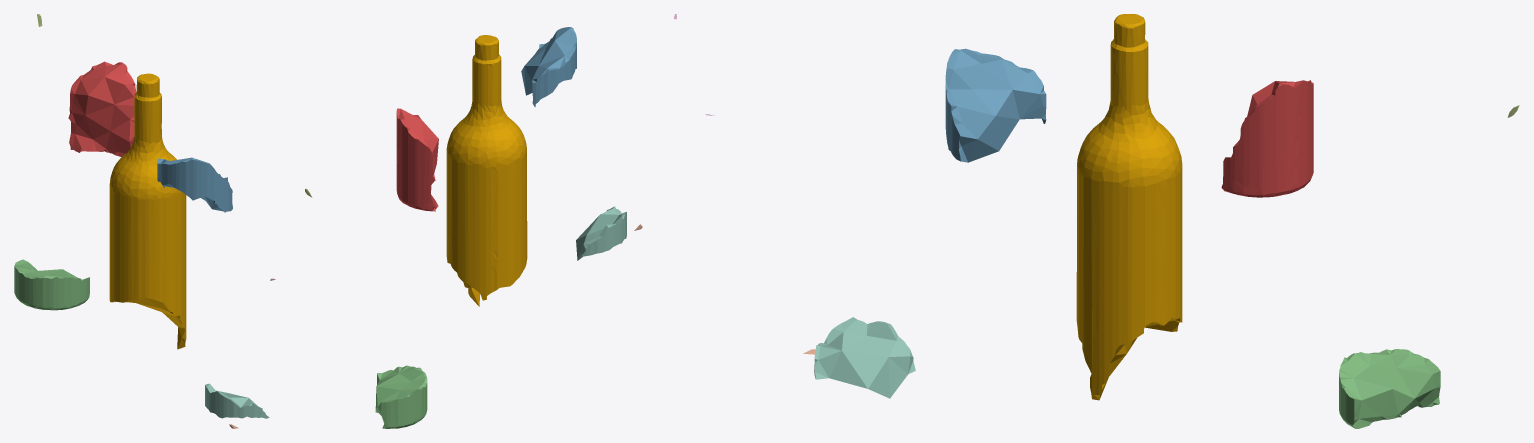
Rendered from mode_5_8pcs_transformed.glb.
The picture shows the model from 3 angles, left to right: view 1: azimuth 30°, elevation 25°; view 2: azimuth 150°, elevation 25°; view 3: azimuth 270°, elevation 25°; orthographic projection. The views are drawn at different scales.
Parts seen in each view (by area): view 1: piece_0.obj, piece_1.obj, piece_3.obj, piece_2.obj, piece_4.obj; view 2: piece_0.obj, piece_1.obj, piece_3.obj, piece_2.obj, piece_4.obj; view 3: piece_0.obj, piece_1.obj, piece_2.obj, piece_3.obj, piece_4.obj.
Boxes of the visible parts, left/top/right/bottom form: piece_0.obj: left=109, top=73, right=186, bottom=349; piece_1.obj: left=68, top=61, right=136, bottom=156; piece_3.obj: left=14, top=259, right=89, bottom=310; piece_2.obj: left=157, top=157, right=232, bottom=212; piece_4.obj: left=205, top=383, right=269, bottom=418; piece_0.obj: left=446, top=35, right=527, bottom=306; piece_1.obj: left=396, top=108, right=438, bottom=211; piece_3.obj: left=375, top=365, right=427, bottom=428; piece_2.obj: left=521, top=27, right=576, bottom=106; piece_4.obj: left=576, top=206, right=626, bottom=260; piece_0.obj: left=1076, top=14, right=1182, bottom=400; piece_1.obj: left=1221, top=80, right=1313, bottom=197; piece_2.obj: left=945, top=48, right=1046, bottom=162; piece_3.obj: left=1339, top=349, right=1440, bottom=428; piece_4.obj: left=814, top=317, right=915, bottom=398.
Bounding box in the file's own units: 0.2415 × 1 × 1.86.
